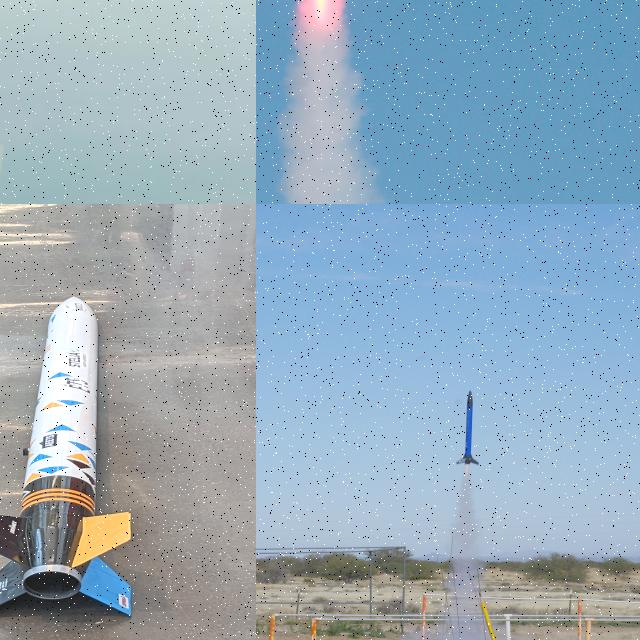Rocket: (0, 296, 132, 616), (455, 391, 480, 465), (478, 590, 508, 640)
